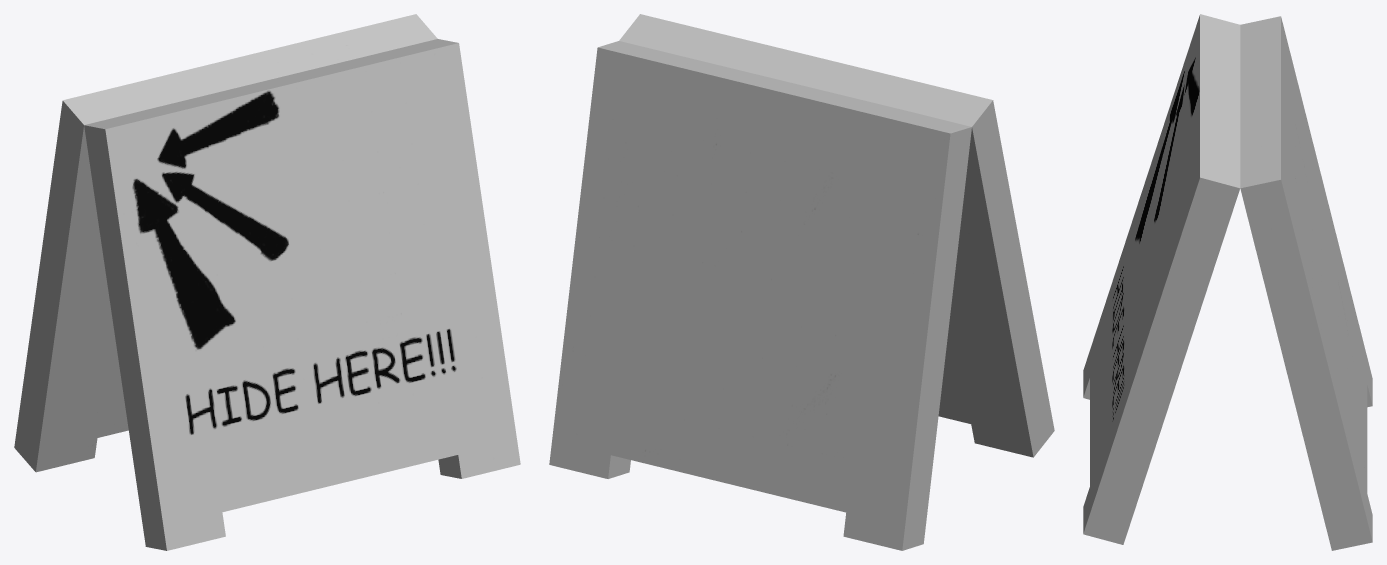
File: ENV_sign_style1.fbx
The picture shows the model from 3 angles, left to right: view 1: azimuth 30°, elevation 25°; view 2: azimuth 150°, elevation 25°; view 3: azimuth 270°, elevation 25°; orthographic projection. The views are drawn at different scales.
Parts seen in each view (by area): view 1: pCube3; view 2: pCube3; view 3: pCube3.
Part boxes in pixels (x1,y1,x2,y2): pCube3: (14, 14, 520, 550); pCube3: (549, 14, 1054, 550); pCube3: (1083, 14, 1372, 550).
Bounding box in the file's own units: 0.8939 × 0.9516 × 0.6686.
